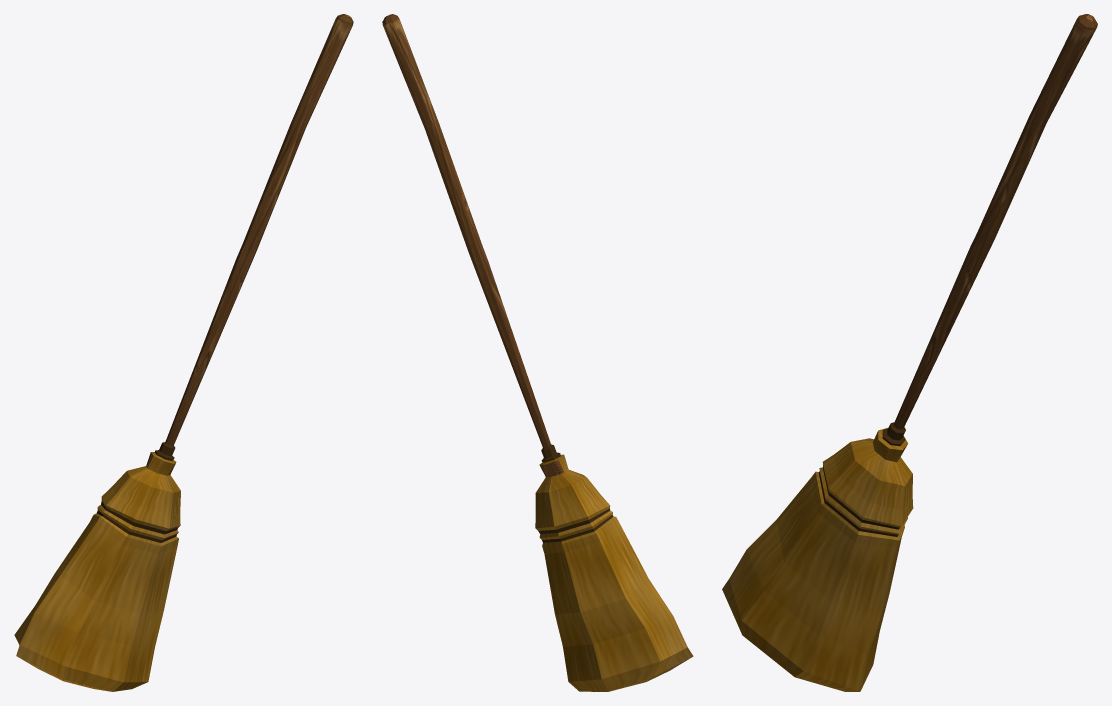
Rendered from Broom sweep.glb.
3 views of the same model, side by side, from view 1: azimuth 30°, elevation 25°; view 2: azimuth 150°, elevation 25°; view 3: azimuth 330°, elevation 25° (orthographic). The views are drawn at different scales.
Parts seen in each view (by area): view 1: broom_01; view 2: broom_01; view 3: broom_01.
Boxes of the visible parts, x1,y1,x2,y2 form: broom_01: (14, 14, 353, 691); broom_01: (382, 14, 693, 691); broom_01: (722, 14, 1097, 691).
Size of the model in its own units: 46.12 by 84.64 by 11.15.
1 material, 1 textured.
